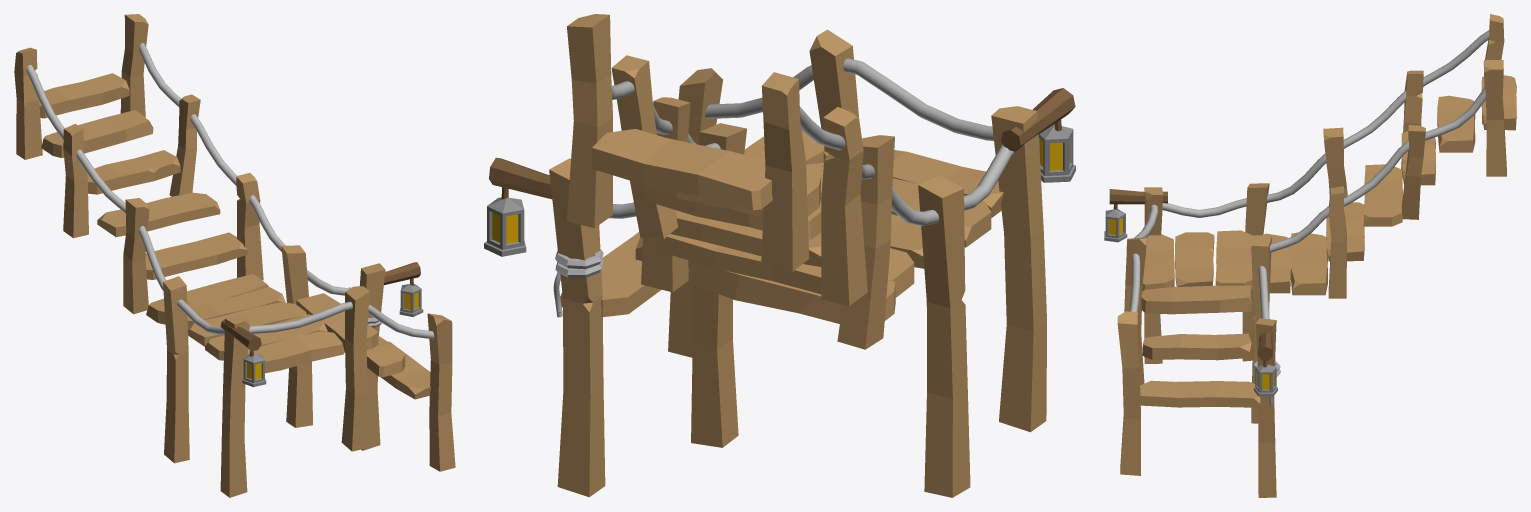
File: Stairs.fbx
3 renders of one model, left to right at view 1: azimuth 30°, elevation 25°; view 2: azimuth 150°, elevation 25°; view 3: azimuth 270°, elevation 25°, orthographic. The views are drawn at different scales.
Visible parts, largest first — view 1: Stairs; view 2: Stairs; view 3: Stairs.
Boxes of the visible parts, x1,y1,x2,y2 form: Stairs: [14, 14, 455, 497]; Stairs: [484, 14, 1075, 497]; Stairs: [1104, 14, 1516, 497].
Size of the model in its own units: 402 by 503 by 502.
